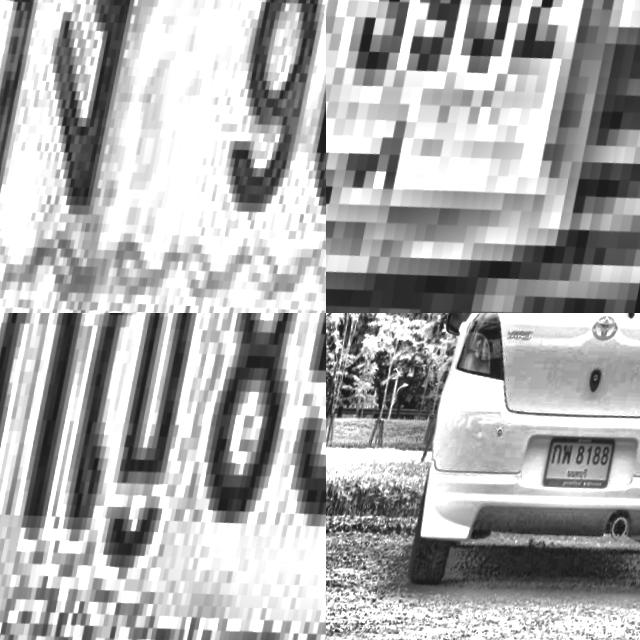license-plate: (0, 313, 326, 640), (0, 0, 326, 313), (326, 0, 640, 313), (542, 433, 625, 512)
